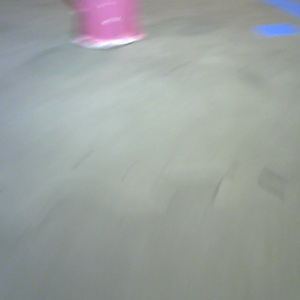middle: (72, 1, 147, 50)
